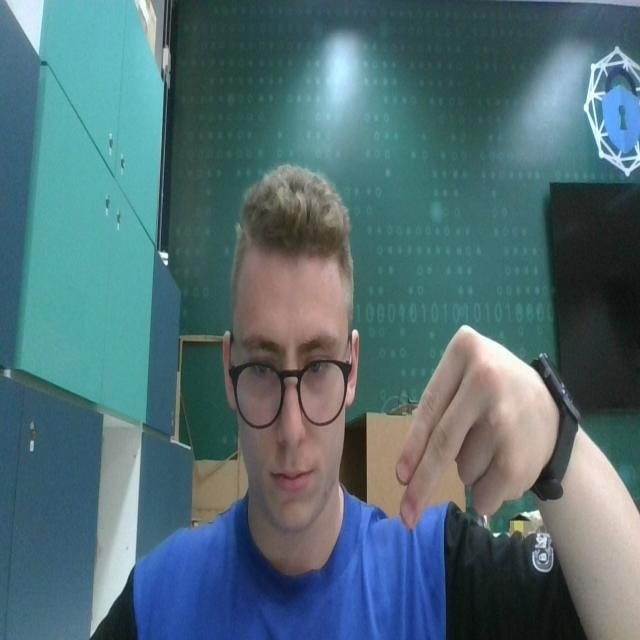N: (390, 317, 539, 535)
